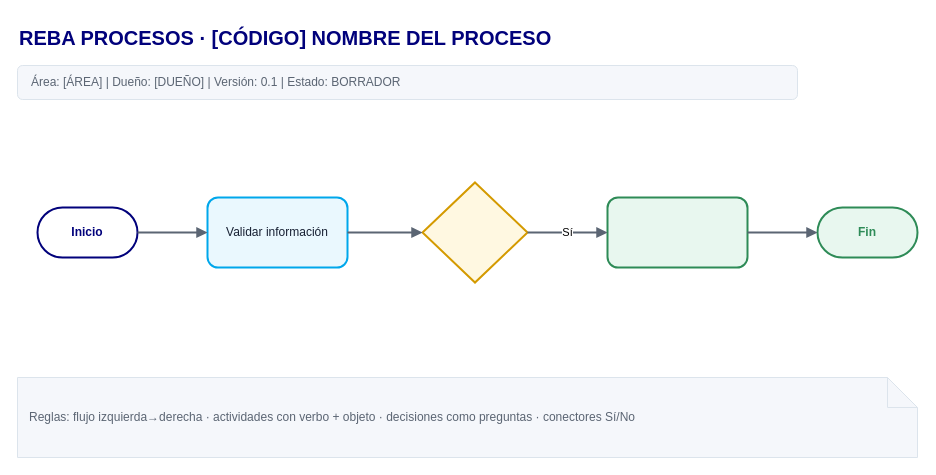
Image size: 936x475. Some labels were removed from this diagram. The shapes that lost their labels are listed below. From the top down, each one's centre as x and y in pixels, then its label:
At (474,232): "¿Información completa?".
At (677,232): "Registrar evidencia".
